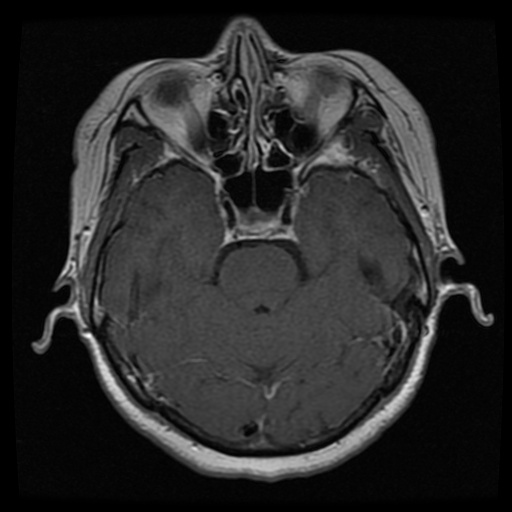pituitary: (233, 206, 282, 237)
